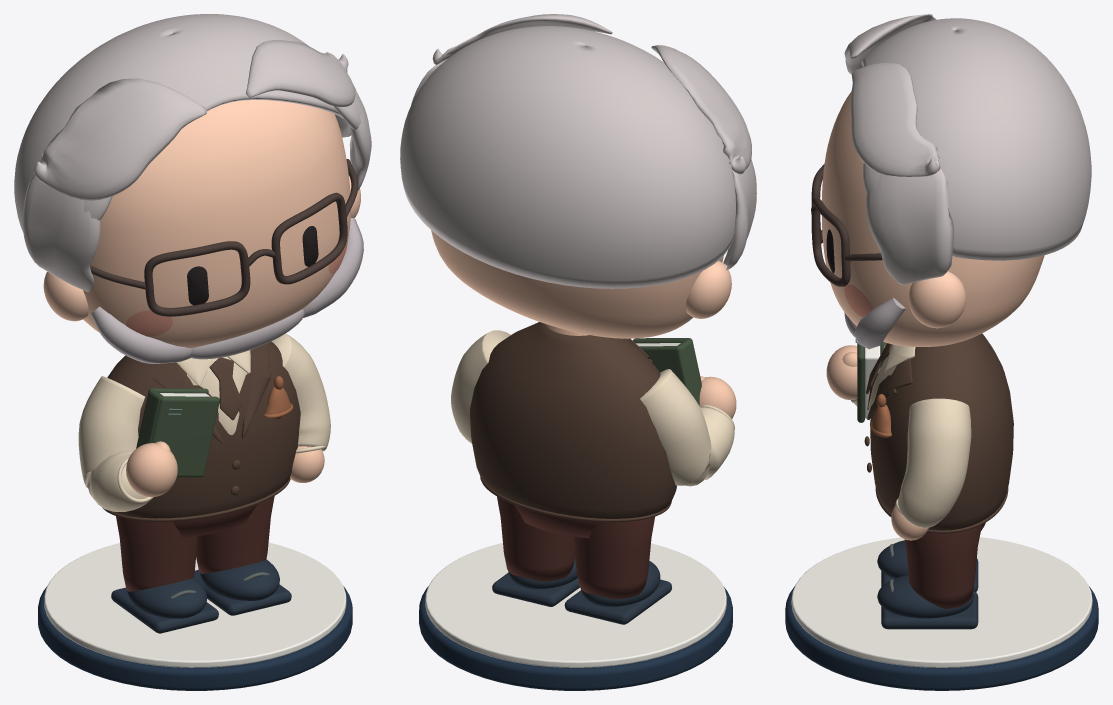
Rendered from expert.glb.
3 views of the same model, side by side, from view 1: azimuth 30°, elevation 25°; view 2: azimuth 150°, elevation 25°; view 3: azimuth 270°, elevation 25° (orthographic).
Parts seen in each view (by area): view 1: expert-root-web; view 2: expert-root-web; view 3: expert-root-web.
Part boxes in pixels (x1=…): expert-root-web: x1=14, y1=14, x2=371, y2=690; expert-root-web: x1=400, y1=14, x2=756, y2=690; expert-root-web: x1=785, y1=14, x2=1098, y2=690.
Bounding box in the file's own units: 1.52 × 2.55 × 1.23.
